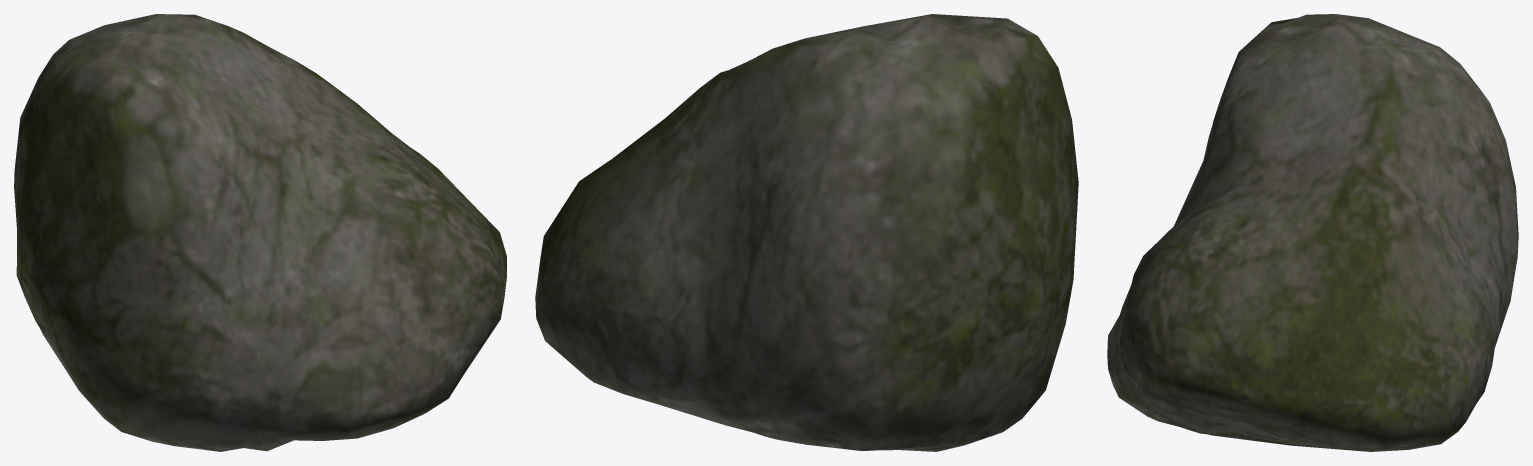
File: rock7.glb
The picture shows the model from 3 angles, left to right: view 1: azimuth 30°, elevation 25°; view 2: azimuth 150°, elevation 25°; view 3: azimuth 270°, elevation 25°; orthographic projection. The views are drawn at different scales.
Parts seen in each view (by area): view 1: rock7_low_rocks_texture_0; view 2: rock7_low_rocks_texture_0; view 3: rock7_low_rocks_texture_0.
Boxes of the visible parts, left/top/right/bottom form: rock7_low_rocks_texture_0: left=14, top=14, right=506, bottom=451; rock7_low_rocks_texture_0: left=535, top=14, right=1078, bottom=451; rock7_low_rocks_texture_0: left=1107, top=14, right=1518, bottom=451.
Bounding box in the file's own units: 0.8741 × 0.7463 × 0.7731.
1 material, 1 textured.
